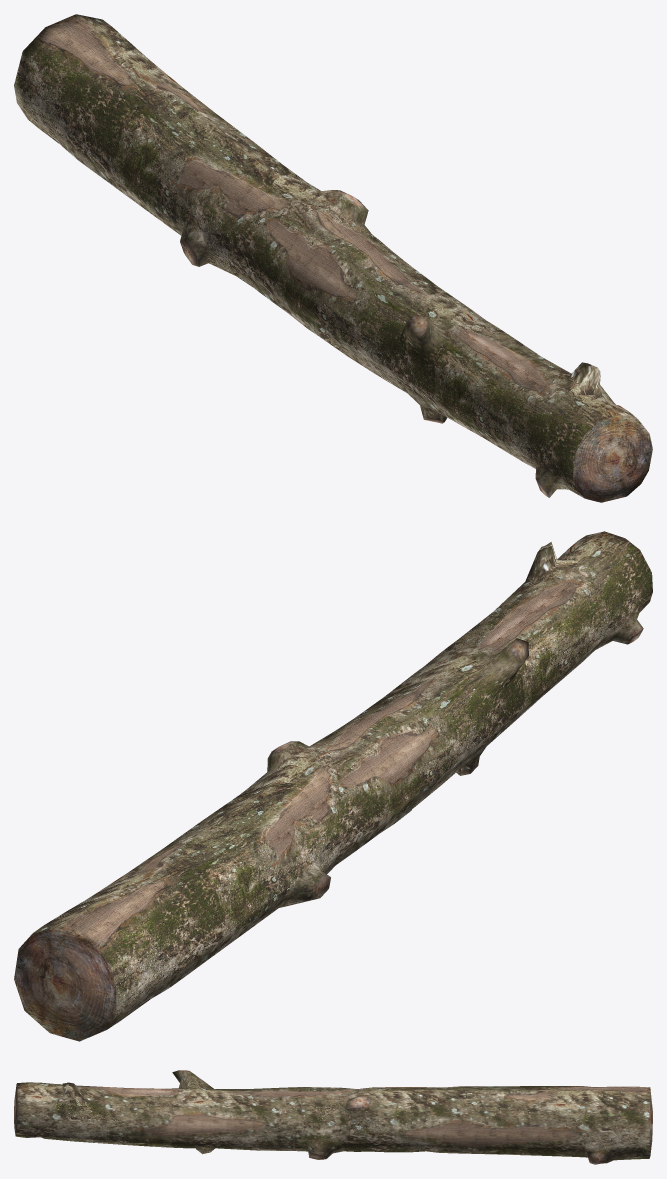
The model's file is log.glb.
3 renders of one model, top to bottom at view 1: azimuth 30°, elevation 25°; view 2: azimuth 150°, elevation 25°; view 3: azimuth 270°, elevation 25°, orthographic. The views are drawn at different scales.
Visible parts, largest first — view 1: Log; view 2: Log; view 3: Log.
Boxes of the visible parts, box(x1,y1,x2,y2) form: Log: box(14, 14, 652, 502); Log: box(14, 531, 652, 1041); Log: box(14, 1070, 652, 1164).
Size of the model in its own units: 91.59 by 96.1 by 703.
1 material, 1 textured.
